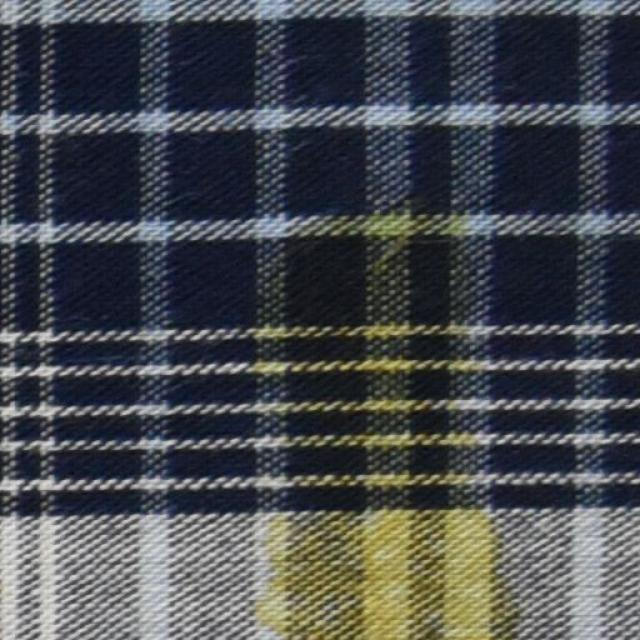Stain: (248, 201, 524, 638)
